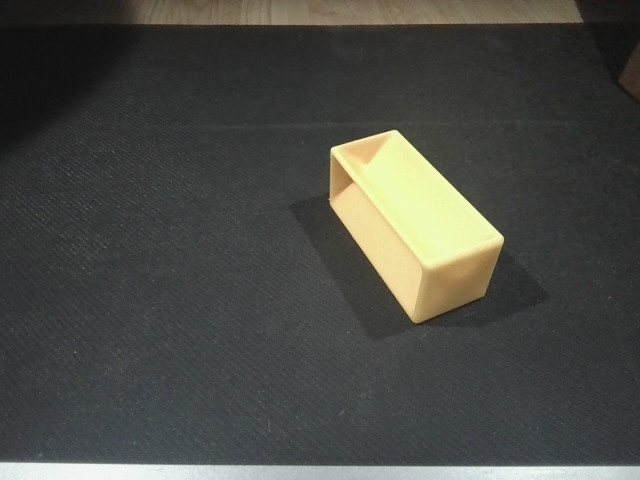YellowSample: (319, 124, 503, 329)
